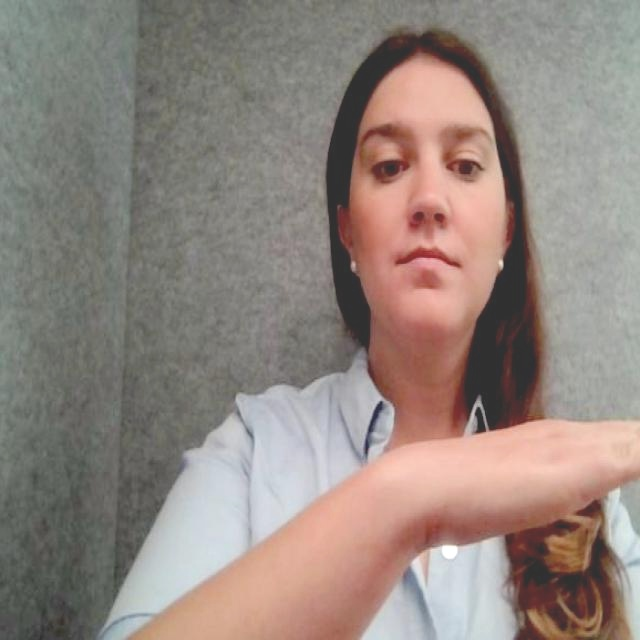Paper: (427, 388, 640, 551)
